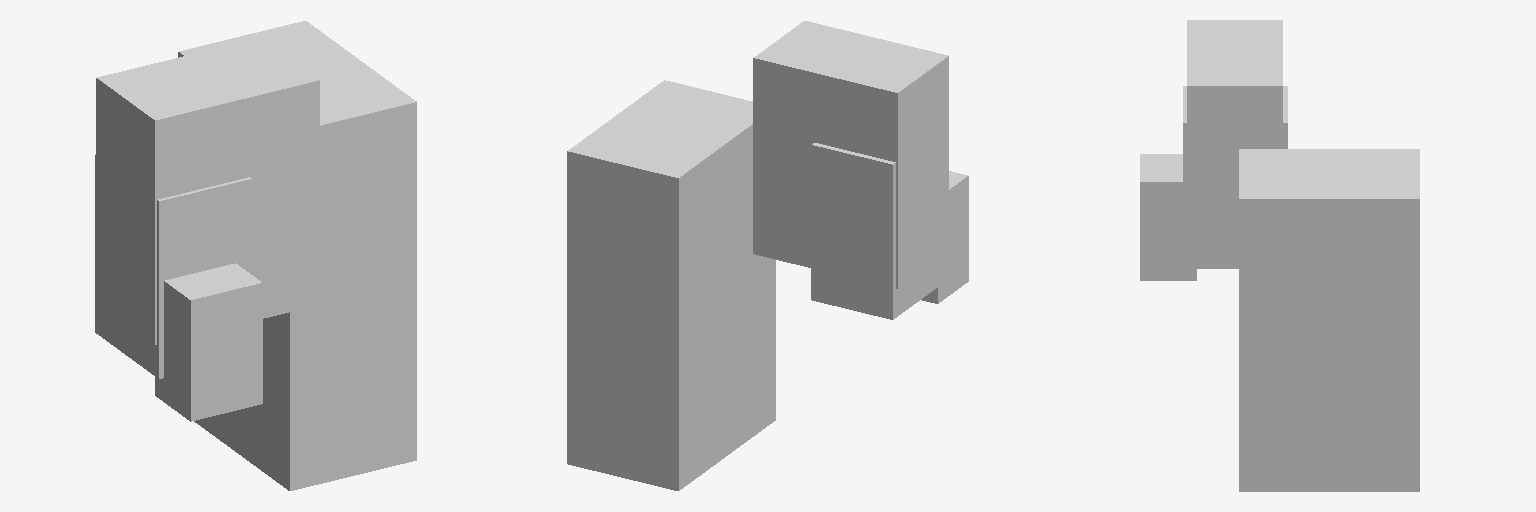
The robot description file, URDF, robot "Universal_Robots_UR3":
<?xml version="1.0" ?>
<robot name="Universal_Robots_UR3">
  <!-- Part: Base -->
  <link name="Base_Link">
    <visual>
      <geometry>
        <mesh filename="./Base.stl"/>
      </geometry>
      <material name="Custom_Color">
        <color rgba="0.90 0.90 0.90 1.0"/>
      </material>
    </visual>
    <collision>
      <geometry>
        <mesh filename="./Base.stl"/>
      </geometry>
    </collision>
    <inertial>
      <mass value="1.0"/>
      <origin rpy="0 0 0" xyz="0.0 0.0 0.0"/>
      <inertia ixx="0.0" ixy="0.0" ixz="0.0"
               iyy="0.0" iyz="0.0" izz="0.0"/>
    </inertial>
  </link>
  <!-- Part: Joint Index 0 -->
  <joint name="Joint_0" type="revolute">
    <parent link="Base_Link"/>
    <child link="Link_0"/>
    <origin rpy="0.0 0.0 0.0" xyz="0.0 0.0 0.1519"/>
    <axis xyz="0 0 1"/>
    <limit effort="150.0" lower="-3.141592653589793" upper="3.141592653589793" velocity="1.0"/>
    <dynamics damping="0.0" friction="0.0"/>
  </joint>
  <link name="Link_0">
    <visual>
      <geometry>
        <mesh filename="./Joint_0.stl"/>
      </geometry>
      <material name="Custom_Color">
        <color rgba="0.90 0.90 0.90 1.0"/>
      </material>
    </visual>
    <collision>
      <geometry>
        <mesh filename="./Joint_0.stl"/>
      </geometry>
    </collision>
    <inertial>
      <mass value="1.0"/>
      <origin rpy="0 0 0" xyz="0.0 0.0 0.0"/>
      <inertia ixx="0.0" ixy="0.0" ixz="0.0"
               iyy="0.0" iyz="0.0" izz="0.0"/>
    </inertial>
  </link>
  <!-- Part: Joint Index 1 -->
  <joint name="Joint_1" type="revolute">
    <parent link="Link_0"/>
    <child link="Link_1"/>
    <origin rpy="1.5707963267948966 0.0 0.0" xyz="0.0 0.0 0.0"/>
    <axis xyz="0 0 1"/>
    <limit effort="150.0" lower="-3.141592653589793" upper="3.141592653589793" velocity="1.0"/>
    <dynamics damping="0.0" friction="0.0"/>
  </joint>
  <link name="Link_1">
    <visual>
      <geometry>
        <mesh filename="./Joint_1.stl"/>
      </geometry>
      <material name="Custom_Color">
        <color rgba="0.90 0.90 0.90 1.0"/>
      </material>
    </visual>
    <collision>
      <geometry>
        <mesh filename="./Joint_1.stl"/>
      </geometry>
    </collision>
    <inertial>
      <mass value="1.0"/>
      <origin rpy="0 0 0" xyz="0.0 0.0 0.0"/>
      <inertia ixx="0.0" ixy="0.0" ixz="0.0"
               iyy="0.0" iyz="0.0" izz="0.0"/>
    </inertial>
  </link>
  <!-- Part: Joint Index 2 -->
  <joint name="Joint_2" type="revolute">
    <parent link="Link_1"/>
    <child link="Link_2"/>
    <origin rpy="0.0 0.0 0.0" xyz="-0.24365 0.0 0.0"/>
    <axis xyz="0 0 1"/>
    <limit effort="150.0" lower="-3.141592653589793" upper="3.141592653589793" velocity="1.0"/>
    <dynamics damping="0.0" friction="0.0"/>
  </joint>
  <link name="Link_2">
    <visual>
      <geometry>
        <mesh filename="./Joint_2.stl"/>
      </geometry>
      <material name="Custom_Color">
        <color rgba="0.90 0.90 0.90 1.0"/>
      </material>
    </visual>
    <collision>
      <geometry>
        <mesh filename="./Joint_2.stl"/>
      </geometry>
    </collision>
    <inertial>
      <mass value="1.0"/>
      <origin rpy="0 0 0" xyz="0.0 0.0 0.0"/>
      <inertia ixx="0.0" ixy="0.0" ixz="0.0"
               iyy="0.0" iyz="0.0" izz="0.0"/>
    </inertial>
  </link>
  <!-- Part: Joint Index 3 -->
  <joint name="Joint_3" type="revolute">
    <parent link="Link_2"/>
    <child link="Link_3"/>
    <origin rpy="0.0 0.0 0.0" xyz="-0.2132499 0.0 0.11235"/>
    <axis xyz="0 0 1"/>
    <limit effort="150.0" lower="-3.141592653589793" upper="3.141592653589793" velocity="1.0"/>
    <dynamics damping="0.0" friction="0.0"/>
  </joint>
  <link name="Link_3">
    <visual>
      <geometry>
        <mesh filename="./Joint_3.stl"/>
      </geometry>
      <material name="Custom_Color">
        <color rgba="0.90 0.90 0.90 1.0"/>
      </material>
    </visual>
    <collision>
      <geometry>
        <mesh filename="./Joint_3.stl"/>
      </geometry>
    </collision>
    <inertial>
      <mass value="1.0"/>
      <origin rpy="0 0 0" xyz="0.0 0.0 0.0"/>
      <inertia ixx="0.0" ixy="0.0" ixz="0.0"
               iyy="0.0" iyz="0.0" izz="0.0"/>
    </inertial>
    <inertial>
      <mass value="1.0"/>
      <origin rpy="0 0 0" xyz="0.0 0.0 0.0"/>
      <inertia ixx="0.0" ixy="0.0" ixz="0.0"
               iyy="0.0" iyz="0.0" izz="0.0"/>
    </inertial>
  </link>
  <!-- Part: Joint Index 4 -->
  <joint name="Joint_4" type="revolute">
    <parent link="Link_3"/>
    <child link="Link_4"/>
    <origin rpy="-4.71238898038469 0.0 0.0" xyz="0.0 -0.08535 0.0"/>
    <axis xyz="0 0 1"/>
    <limit effort="150.0" lower="-3.141592653589793" upper="3.141592653589793" velocity="1.0"/>
    <dynamics damping="0.0" friction="0.0"/>
  </joint>
  <link name="Link_4">
    <visual>
      <geometry>
        <mesh filename="./Joint_4.stl"/>
      </geometry>
      <material name="Custom_Color">
        <color rgba="0.90 0.90 0.90 1.0"/>
      </material>
    </visual>
    <collision>
      <geometry>
        <mesh filename="./Joint_4.stl"/>
      </geometry>
    </collision>
    <inertial>
      <mass value="1.0"/>
      <origin rpy="0 0 0" xyz="0.0 0.0 0.0"/>
      <inertia ixx="0.0" ixy="0.0" ixz="0.0"
               iyy="0.0" iyz="0.0" izz="0.0"/>
    </inertial>
  </link>
  <!-- Part: Joint Index 5 -->
  <joint name="Joint_5" type="revolute">
    <parent link="Link_4"/>
    <child link="Link_5"/>
    <origin rpy="4.71238898038469 0.0 0.0" xyz="0.0 0.0819 0.0"/>
    <axis xyz="0 0 1"/>
    <limit effort="150.0" lower="-3.141592653589793" upper="3.141592653589793" velocity="1.0"/>
    <dynamics damping="0.0" friction="0.0"/>
  </joint>
  <link name="Link_5">
    <visual>
      <geometry>
        <mesh filename="./Joint_5.stl"/>
      </geometry>
      <material name="Custom_Color">
        <color rgba="0.90 0.90 0.90 1.0"/>
      </material>
    </visual>
    <collision>
      <geometry>
        <mesh filename="./Joint_5.stl"/>
      </geometry>
    </collision>
    <inertial>
      <mass value="1.0"/>
      <origin rpy="0 0 0" xyz="0.0 0.0 0.0"/>
      <inertia ixx="0.0" ixy="0.0" ixz="0.0"
               iyy="0.0" iyz="0.0" izz="0.0"/>
    </inertial>
  </link>
  <!-- Part: End-Effector -->
  <joint name="EE" type="fixed">
    <origin rpy="0.0 0.0 0.0" xyz="0.0 0.0 0.0"/>
    <parent link="Link_5"/>
    <child link="EE_Link"/>
  </joint>
  <link name="EE_Link"/>
</robot>

--- Render facts (derived) ---
3 views of the same robot in one strip: view 1: azimuth 30°, elevation 25°; view 2: azimuth 150°, elevation 25°; view 3: azimuth 270°, elevation 25° (orthographic).
Model Universal_Robots_UR3 with 8 links and 7 joints (6 revolute, 1 fixed), rooted at Base_Link, posed every joint at zero.
Links seen in each view (by area): view 1: Link_2, Link_3, Link_5, Link_4; view 2: Link_2, Link_3, Link_4, Link_5; view 3: Link_2, Link_3, Link_5, Link_4.
Boxes of the visible links, x1=… form: Link_2: x1=178, y1=21, x2=416, y2=490; Link_3: x1=96, y1=37, x2=319, y2=344; Link_5: x1=155, y1=263, x2=262, y2=421; Link_4: x1=95, y1=154, x2=252, y2=378; Link_2: x1=567, y1=80, x2=775, y2=490; Link_3: x1=753, y1=21, x2=948, y2=288; Link_4: x1=811, y1=143, x2=948, y2=319; Link_5: x1=921, y1=171, x2=968, y2=303; Link_2: x1=1239, y1=149, x2=1419, y2=491; Link_3: x1=1187, y1=20, x2=1282, y2=268; Link_5: x1=1140, y1=154, x2=1196, y2=280; Link_4: x1=1183, y1=86, x2=1287, y2=267.
Size in the robot's own frame: 0.3341 by 0.3389 by 0.4723 metres.
Meshes: 7 distinct files referenced, 4 mesh visuals loaded (4 binary STL); not drawn: 3 (reference not matched to a file when rendering).